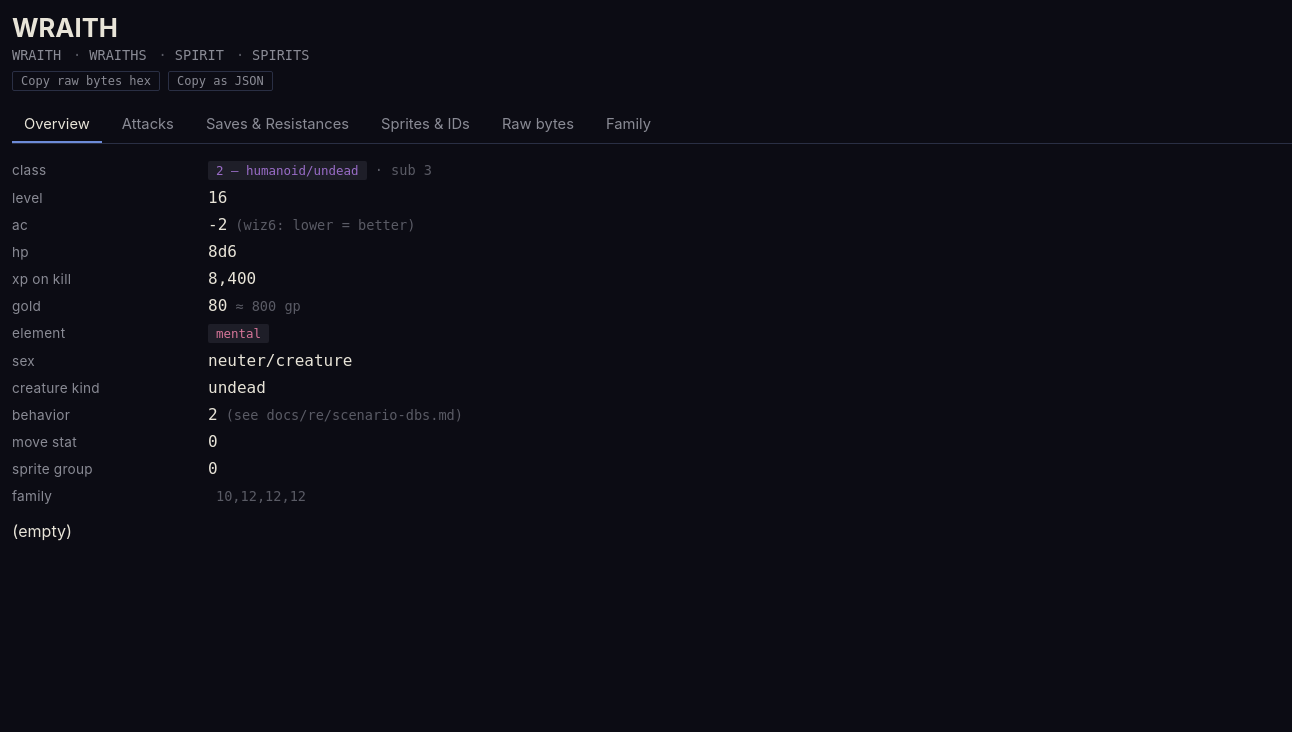
Test: MonsterDetail › clicking a tab updates the URL
This screenshot has width=1292, height=732.
Click the tab "Attacks" at (148, 125), box [110,107,186,143]
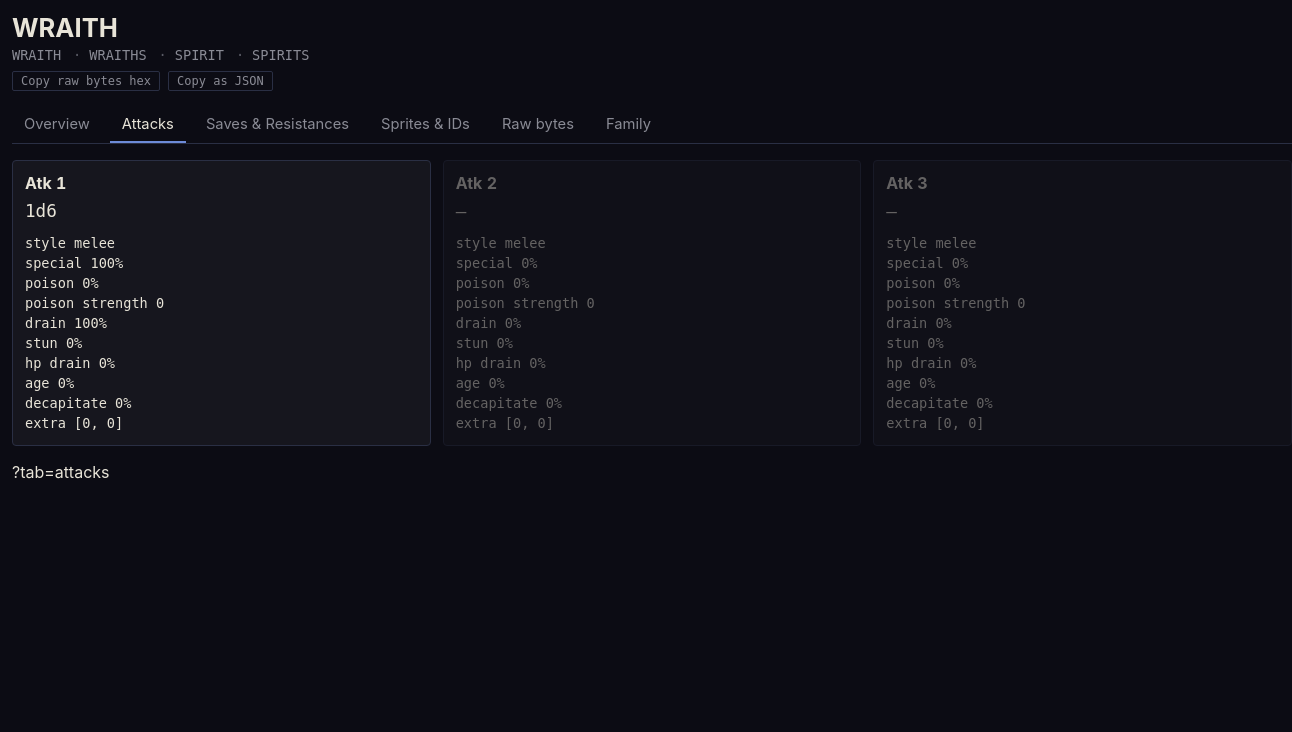
Now the text with test id "location" shows "tab=attacks", box [12,462,110,482]
